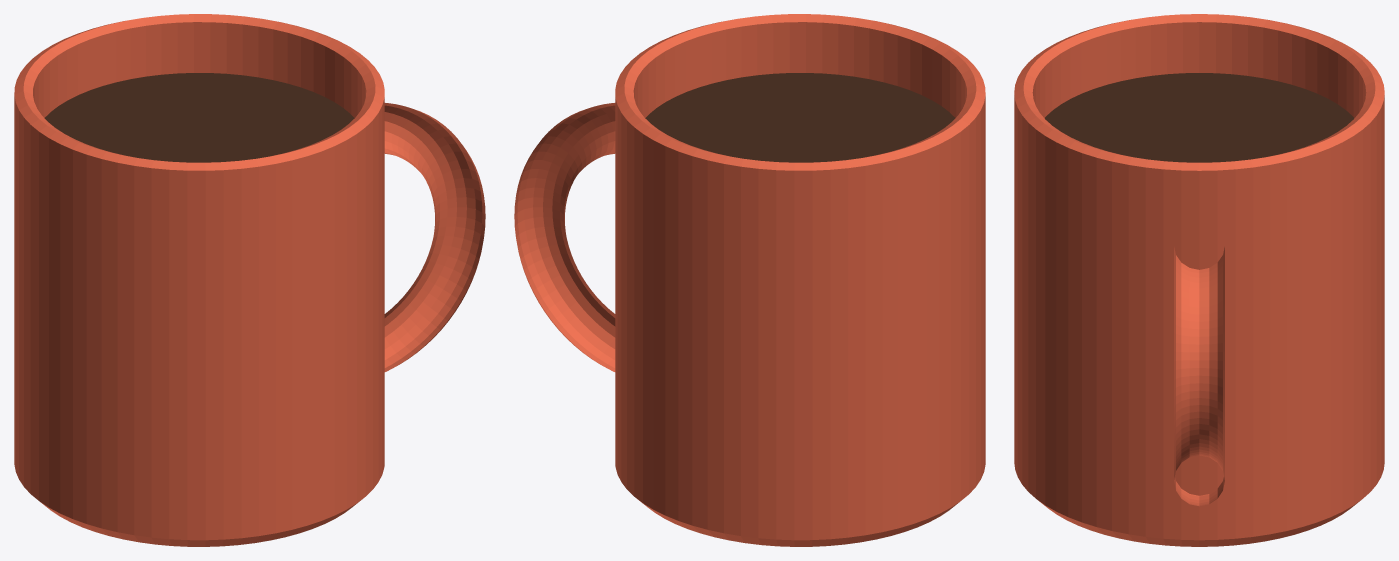
The model's file is mug.glb.
3 views of the same model, side by side, from view 1: azimuth 30°, elevation 25°; view 2: azimuth 150°, elevation 25°; view 3: azimuth 270°, elevation 25° (orthographic).
Parts seen in each view (by area): view 1: mug_0, mug_2, mug_1; view 2: mug_0, mug_2, mug_1; view 3: mug_0, mug_2, mug_1.
Part boxes in pixels (left/top/right/bottom): mug_0: left=14, top=14, right=384, bottom=546; mug_2: left=44, top=73, right=354, bottom=162; mug_1: left=384, top=103, right=485, bottom=371; mug_0: left=615, top=14, right=985, bottom=546; mug_2: left=645, top=73, right=955, bottom=162; mug_1: left=514, top=103, right=615, bottom=371; mug_0: left=1014, top=14, right=1384, bottom=546; mug_2: left=1044, top=73, right=1354, bottom=162; mug_1: left=1174, top=247, right=1224, bottom=506.
Size of the model in its own units: 0.1105 by 0.092 by 0.08.
